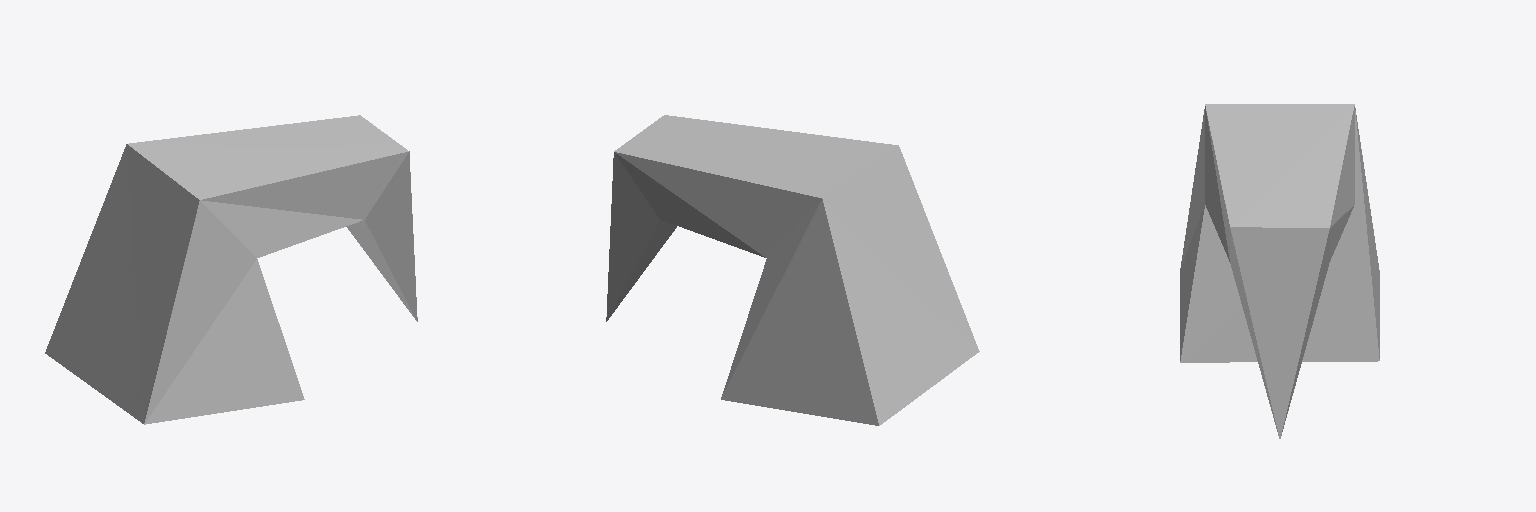
Rendered from skeletal_000019.obj.
3 renders of one model, left to right at view 1: azimuth 30°, elevation 25°; view 2: azimuth 150°, elevation 25°; view 3: azimuth 270°, elevation 25°, orthographic.
Parts seen in each view (by area): view 1: Cube; view 2: Cube; view 3: Cube.
Part boxes in pixels (bbox=[...]): Cube: bbox=[45, 115, 417, 424]; Cube: bbox=[606, 115, 979, 425]; Cube: bbox=[1180, 104, 1379, 438].
Bounding box in the file's own units: 3.74 × 2.37 × 2.